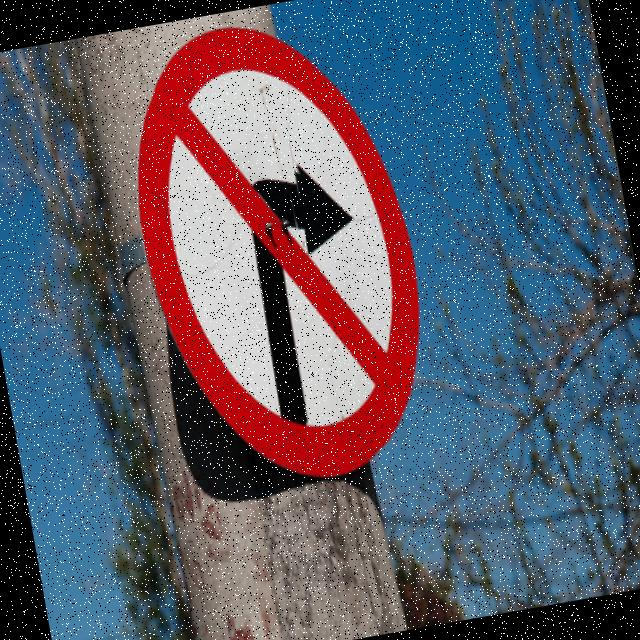do_not_turn_right: (104, 0, 458, 507)
